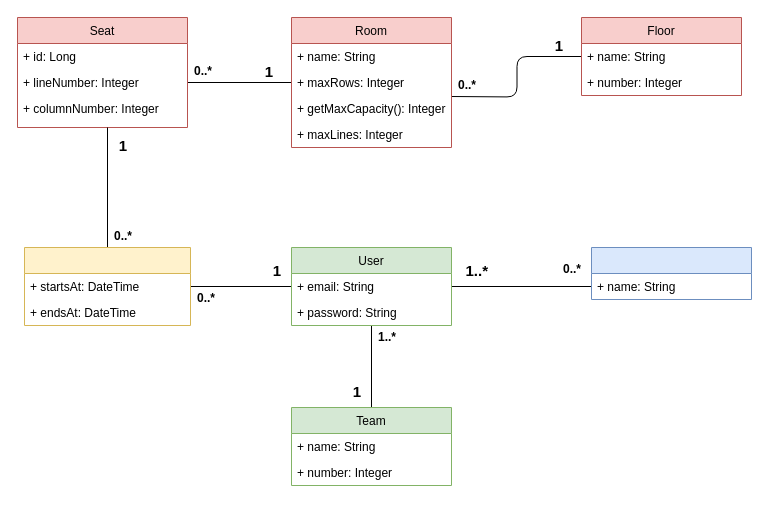
Image size: 769x506. Some labels were removed from this diagram. The box of each missing label's shape, as (x1, y1, x2, y2) in pixels:
Reservation: (24, 246, 190, 326)
Role: (590, 246, 752, 300)
